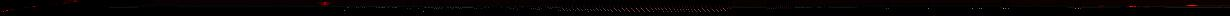Blue cone: (73, 0, 78, 2), (33, 6, 36, 7)
Yellow cone: (318, 2, 332, 6)
